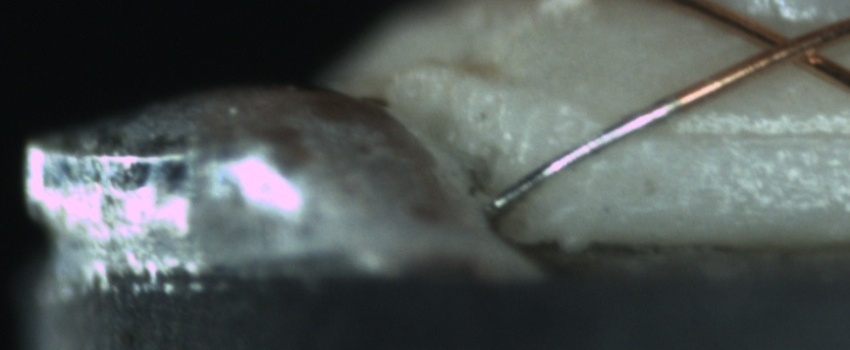CL: (742, 16, 841, 75)
DL: (639, 104, 849, 168)
TS: (492, 95, 680, 211)
